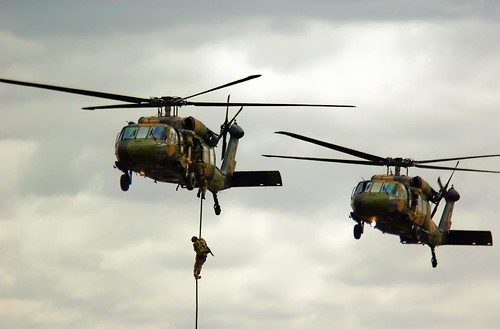helicopter: (278, 128, 500, 265), (100, 61, 283, 214)
soldier: (186, 232, 217, 285), (191, 156, 216, 207)
